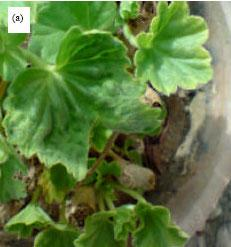Tomato leaf yellow virus: (6, 28, 169, 179), (128, 5, 215, 94)
